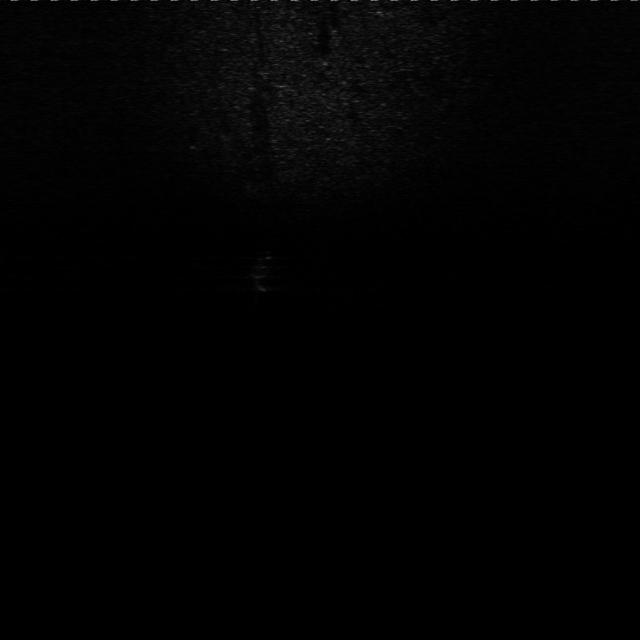human body: (243, 235, 284, 299)
